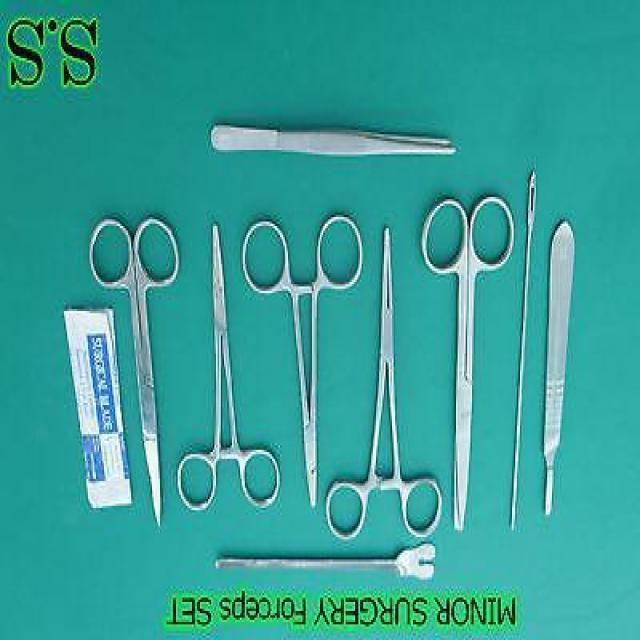Forceps: (208, 118, 458, 164)
Hemostat: (322, 224, 444, 546), (175, 217, 282, 517)
Iris: (88, 212, 181, 528)
Mayo_metz: (419, 192, 517, 535)
Scalpel: (540, 216, 578, 522)
